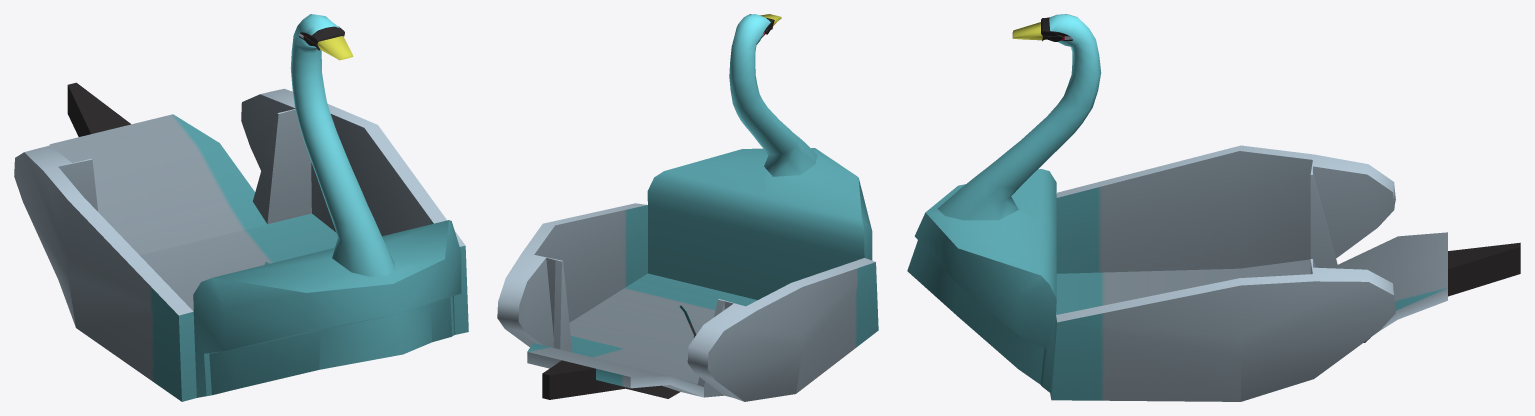
The model's file is SM_SwanBoat_02.fbx.
3 views of the same model, side by side, from view 1: azimuth 30°, elevation 25°; view 2: azimuth 150°, elevation 25°; view 3: azimuth 270°, elevation 25° (orthographic). The views are drawn at different scales.
Parts seen in each view (by area): view 1: SM_SwanBoat_02; view 2: SM_SwanBoat_02; view 3: SM_SwanBoat_02.
Boxes of the visible parts, bbox=[...] form: SM_SwanBoat_02: bbox=[14, 14, 468, 401]; SM_SwanBoat_02: bbox=[497, 14, 878, 401]; SM_SwanBoat_02: bbox=[907, 14, 1520, 401].
Bounding box in the file's own units: 2.06 × 3.81 × 2.2.
